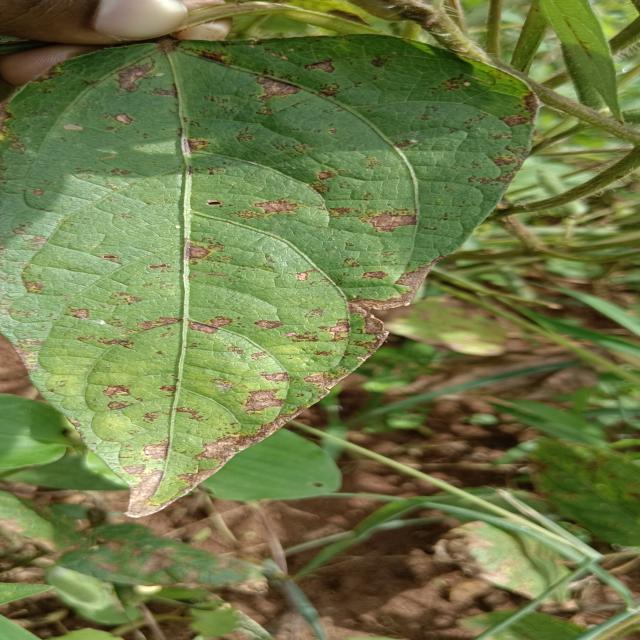Black gram_leaf spot: (0, 28, 529, 524)
